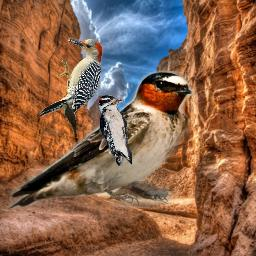Cuckoo: (60, 102, 78, 138)
Swallow: (7, 69, 194, 209)
Woodpecker: (35, 35, 112, 120), (98, 95, 132, 166)
